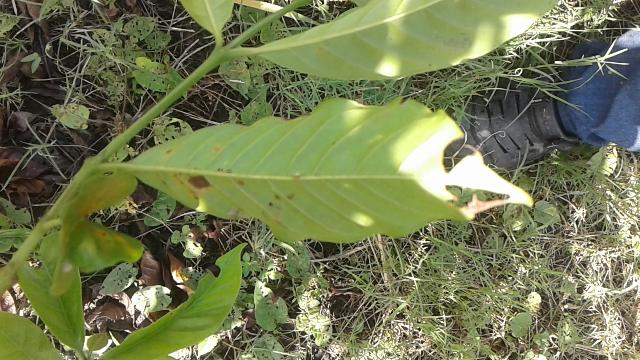rust_level_2: (120, 87, 543, 252)
